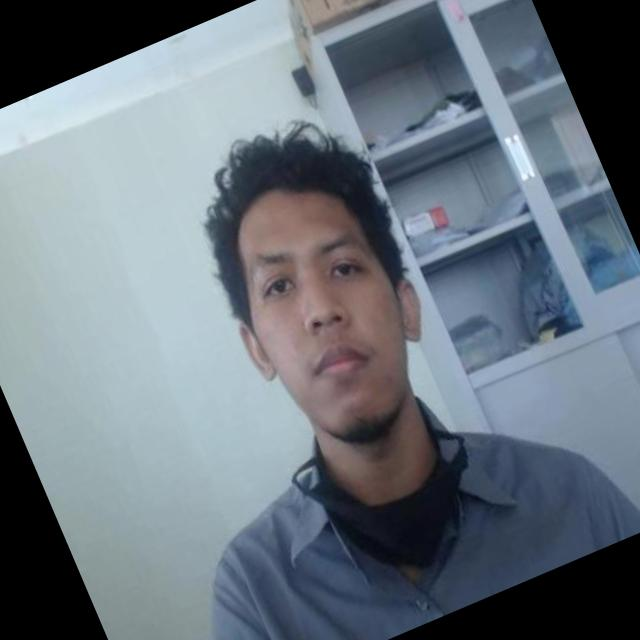bareface: (175, 121, 468, 474)
